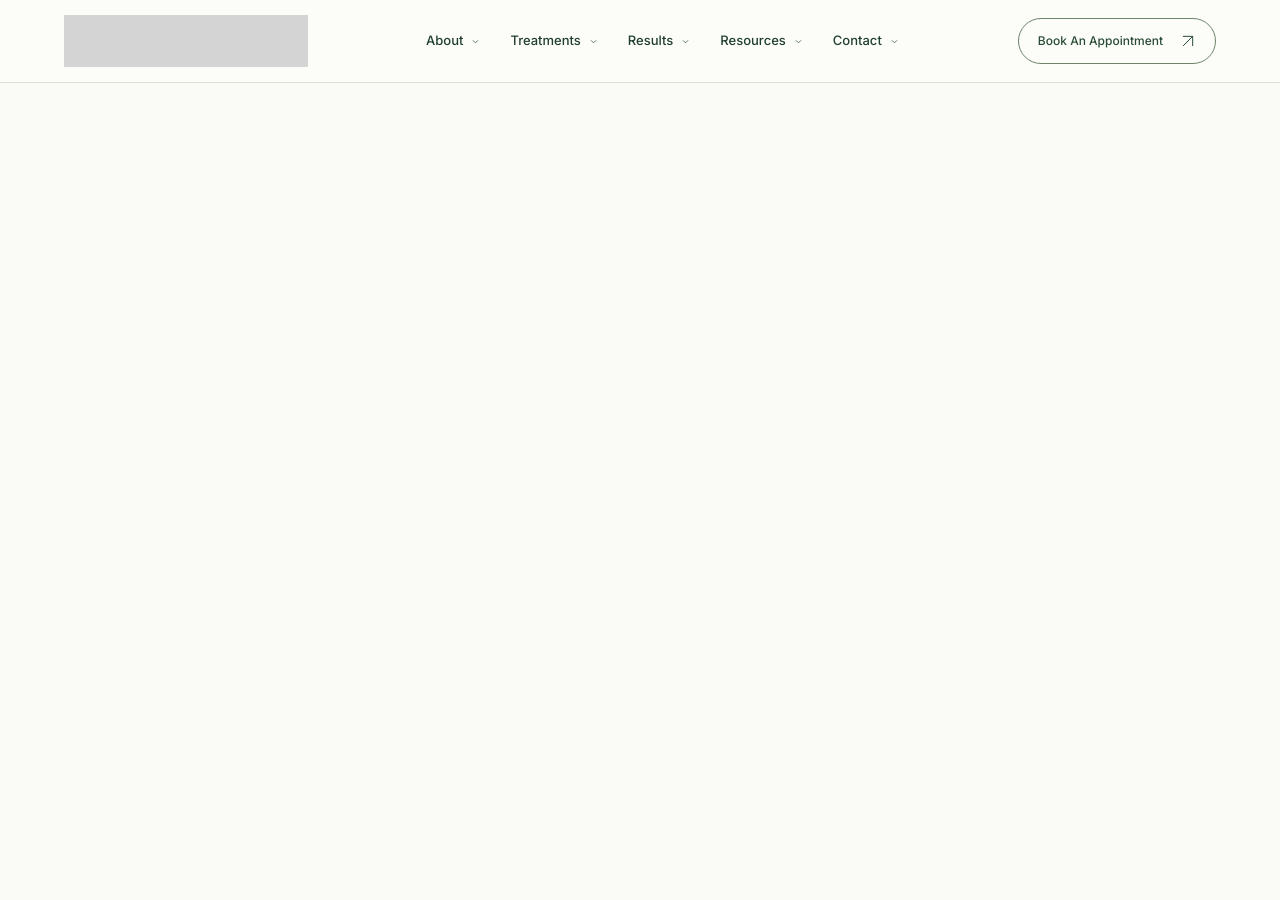
Test case: clarity navigation › renders its own structural layout and opens every top-level group
The width and height of the screenshot is (1280, 900).
Click the button "About" at (454, 41), box [414, 19, 493, 63]
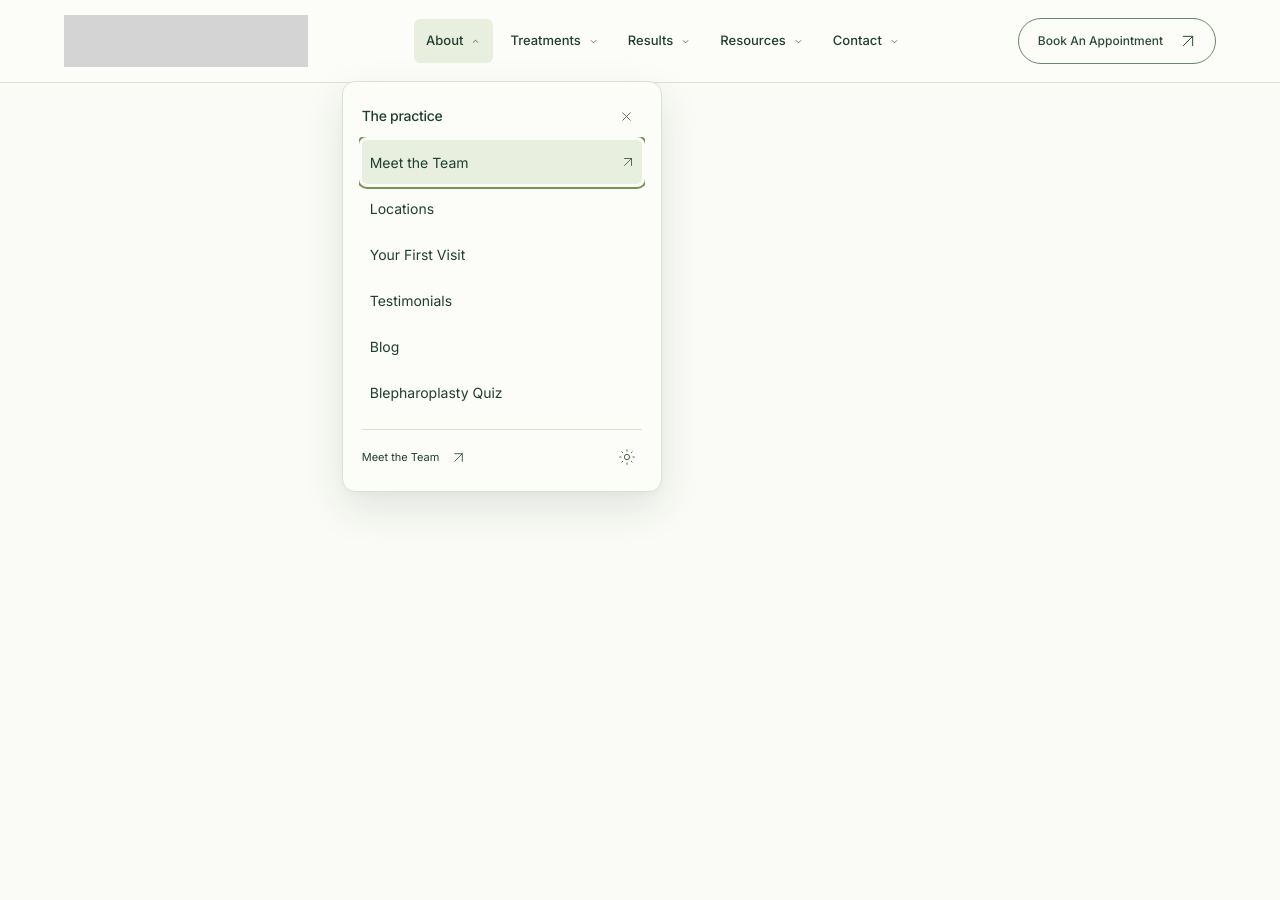
expect the button "About" is expanded: met, box [414, 19, 493, 63]
Click the button "Treatments" at (555, 41), box [498, 19, 611, 63]
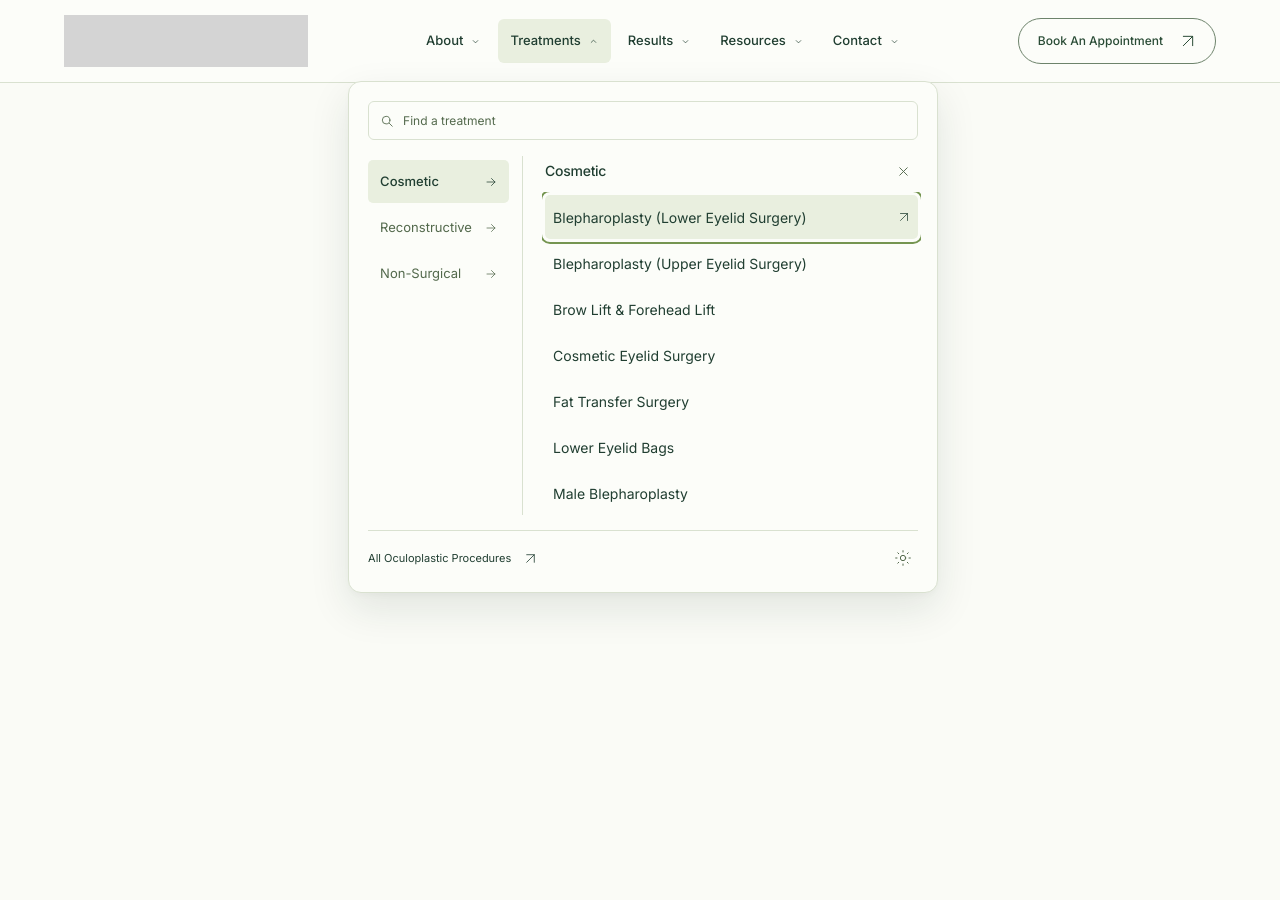
expect the button "Treatments" is expanded: met, box [498, 19, 611, 63]
Click the button "Results" at (660, 41), box [616, 19, 703, 63]
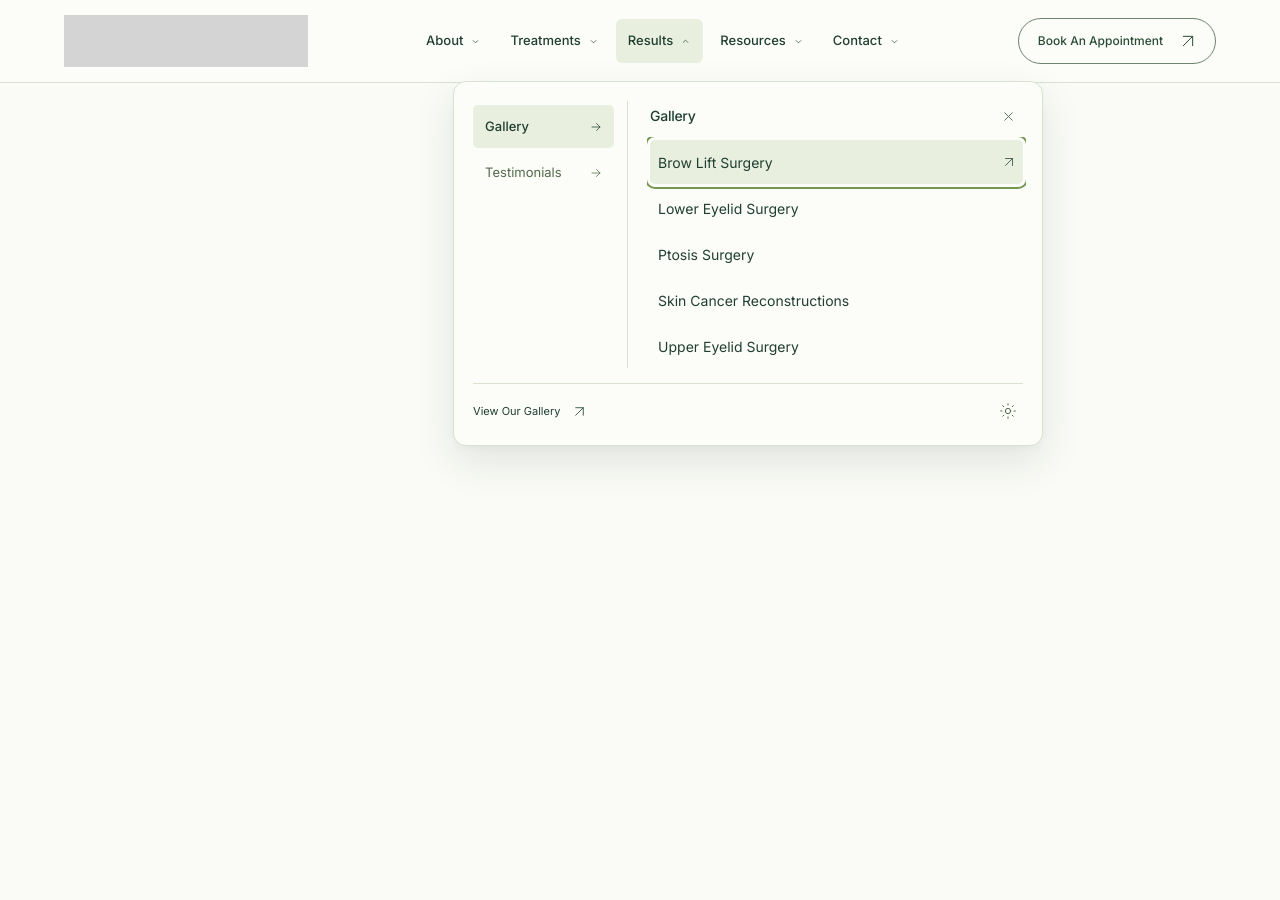
expect the button "Results" is expanded: met, box [616, 19, 703, 63]
Click the button "Resources" at (762, 41), box [708, 19, 816, 63]
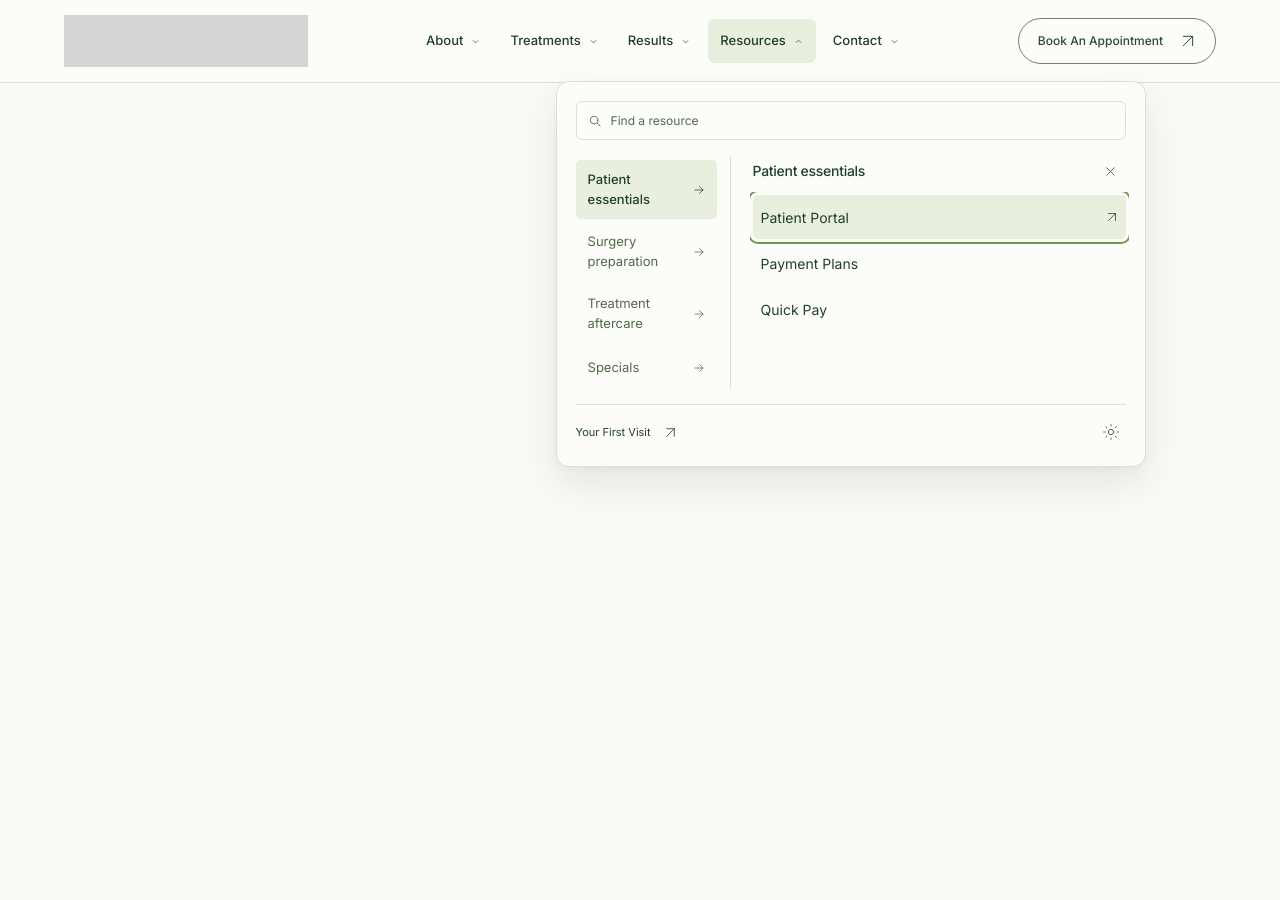
expect the button "Resources" is expanded: met, box [708, 19, 816, 63]
Click the button "Contact" at (866, 41), box [821, 19, 912, 63]
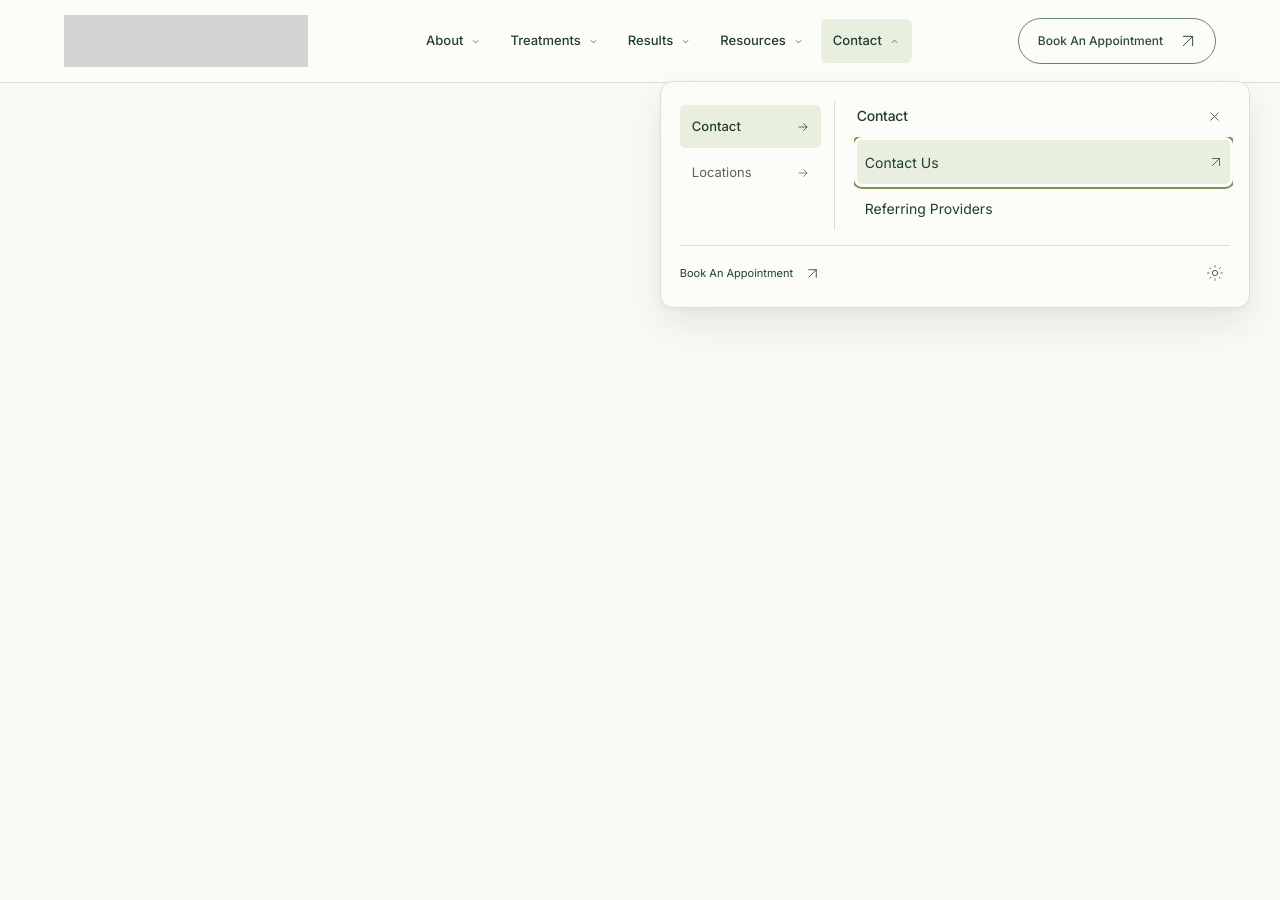
expect the 1st button "Contact" is expanded: met, box [821, 19, 912, 63]
